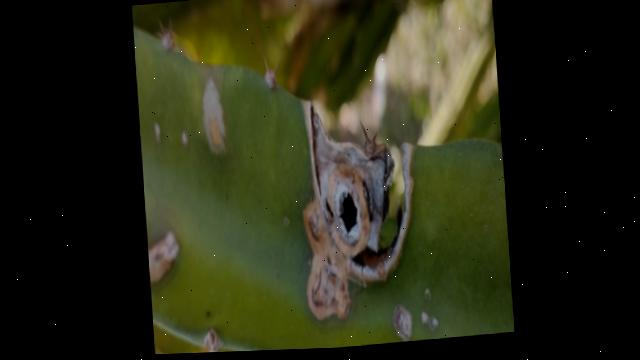stemcanker: (146, 223, 189, 290), (198, 73, 229, 159)
